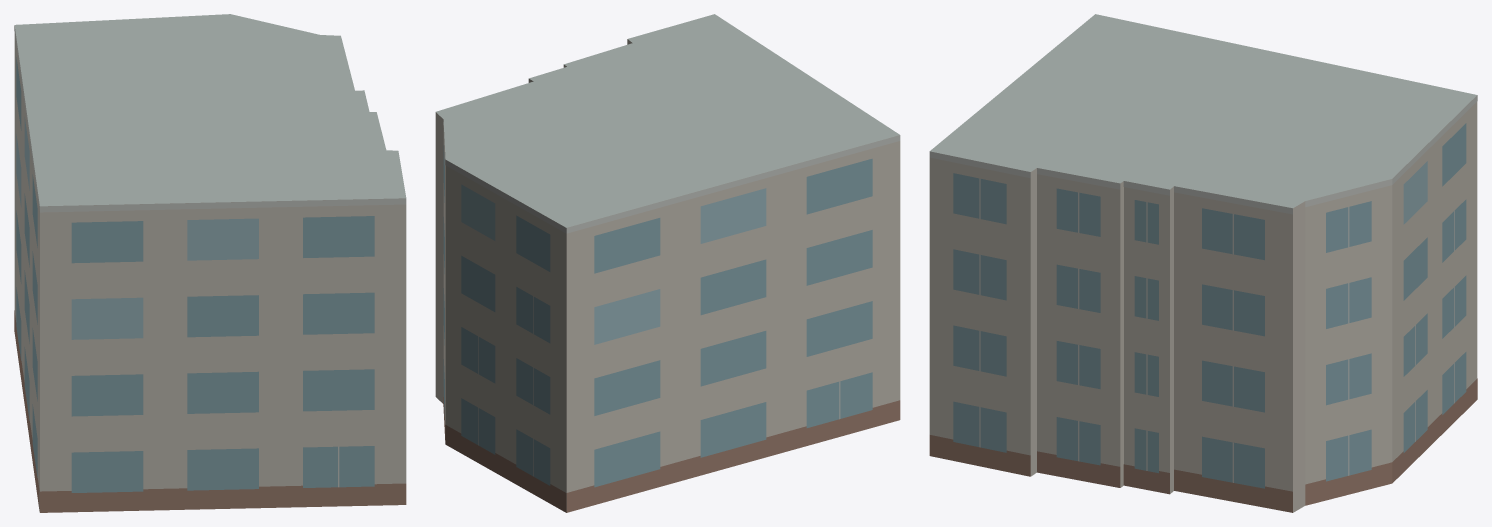
The model's file is survey-upis-32880252.glb.
The picture shows the model from 3 angles, left to right: view 1: azimuth 30°, elevation 25°; view 2: azimuth 150°, elevation 25°; view 3: azimuth 270°, elevation 25°; orthographic projection. The views are drawn at different scales.
Parts seen in each view (by area): view 1: survey-upis-32880252.tmp; view 2: survey-upis-32880252.tmp; view 3: survey-upis-32880252.tmp.
Boxes of the visible parts, box(x1,y1,x2,y2) form: survey-upis-32880252.tmp: box(14, 14, 406, 512); survey-upis-32880252.tmp: box(435, 14, 900, 512); survey-upis-32880252.tmp: box(929, 14, 1477, 512).
Size of the model in its own units: 16.35 by 11.95 by 19.49.
